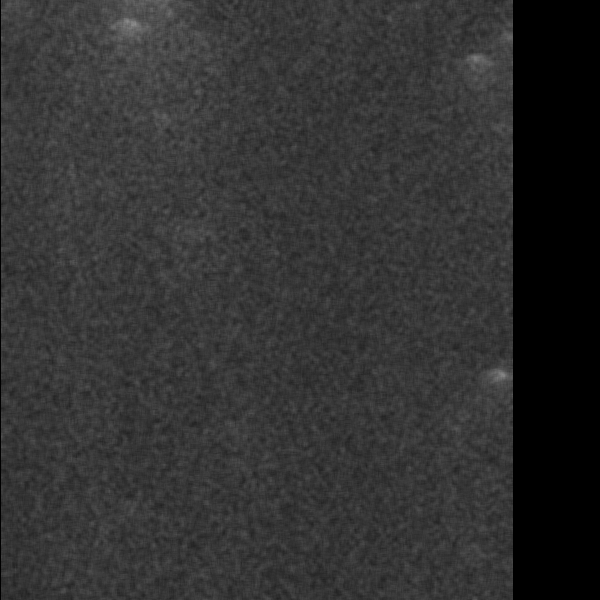spark: (39, 72, 100, 149), (123, 314, 147, 342)
